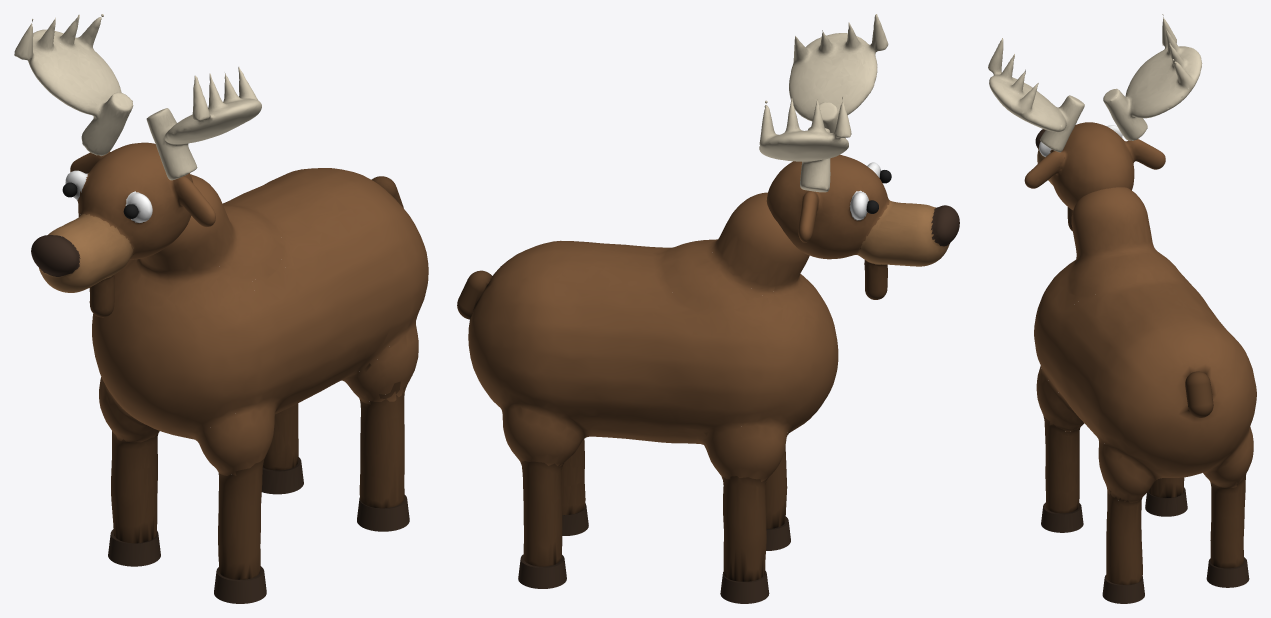
File: vad-heter-det-pa-svenska.glb
3 renders of one model, left to right at view 1: azimuth 30°, elevation 25°; view 2: azimuth 150°, elevation 25°; view 3: azimuth 270°, elevation 25°, orthographic. The views are drawn at different scales.
Visible parts, largest first — view 1: alce__r0, cabeca__r0, chifres__r0, alce__r2, alce__r5, alce__r1, alce__r4; view 2: alce__r0, cabeca__r0, chifres__r0, alce__r4, alce__r5, alce__r3; view 3: alce__r0, chifres__r0, cabeca__r0, alce__r3, alce__r2, alce__r4, alce__r1, alce__r5.
Part boxes in pixels (x1=…): alce__r0: x1=92, y1=168, x2=428, y2=579; cabeca__r0: x1=31, y1=142, x2=215, y2=317; chifres__r0: x1=14, y1=14, x2=261, y2=180; alce__r2: x1=214, y1=566, x2=266, y2=603; alce__r5: x1=108, y1=529, x2=160, y2=566; alce__r1: x1=357, y1=495, x2=409, y2=531; alce__r4: x1=261, y1=457, x2=303, y2=494; alce__r0: x1=468, y1=192, x2=838, y2=581; cabeca__r0: x1=766, y1=155, x2=959, y2=299; chifres__r0: x1=759, y1=14, x2=888, y2=192; alce__r4: x1=518, y1=554, x2=566, y2=588; alce__r5: x1=720, y1=571, x2=769, y2=603; alce__r3: x1=457, y1=270, x2=492, y2=319; alce__r0: x1=1034, y1=187, x2=1256, y2=584; chifres__r0: x1=988, y1=14, x2=1202, y2=152; cabeca__r0: x1=1024, y1=122, x2=1165, y2=231; alce__r3: x1=1185, y1=371, x2=1213, y2=417; alce__r2: x1=1041, y1=502, x2=1083, y2=532; alce__r4: x1=1206, y1=557, x2=1249, y2=587; alce__r1: x1=1102, y1=575, x2=1144, y2=603; alce__r5: x1=1145, y1=487, x2=1187, y2=516.
Size of the model in its own units: 1.97 by 2.35 by 1.26.
